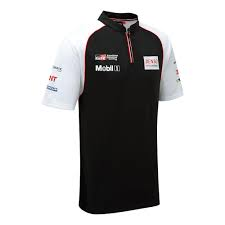S_polo shirt: (40, 9, 185, 212)
